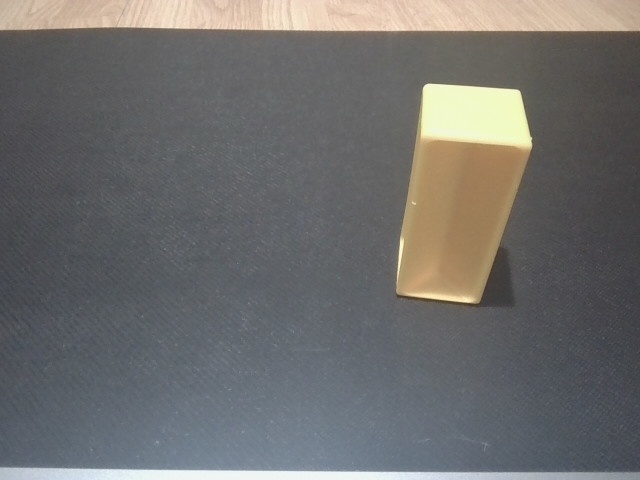YellowSample: (391, 80, 538, 310)
